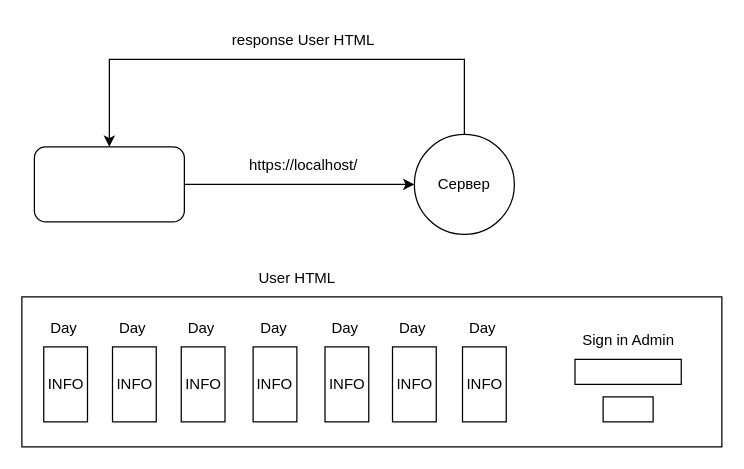
This 744x469 diagram has some shape labels left out. Each missing label, with the centre of its shape:
"Input Pass" belongs at pixel 627 371.
"Send" belongs at pixel 627 409.
"Клієнт" belongs at pixel 108 184.
